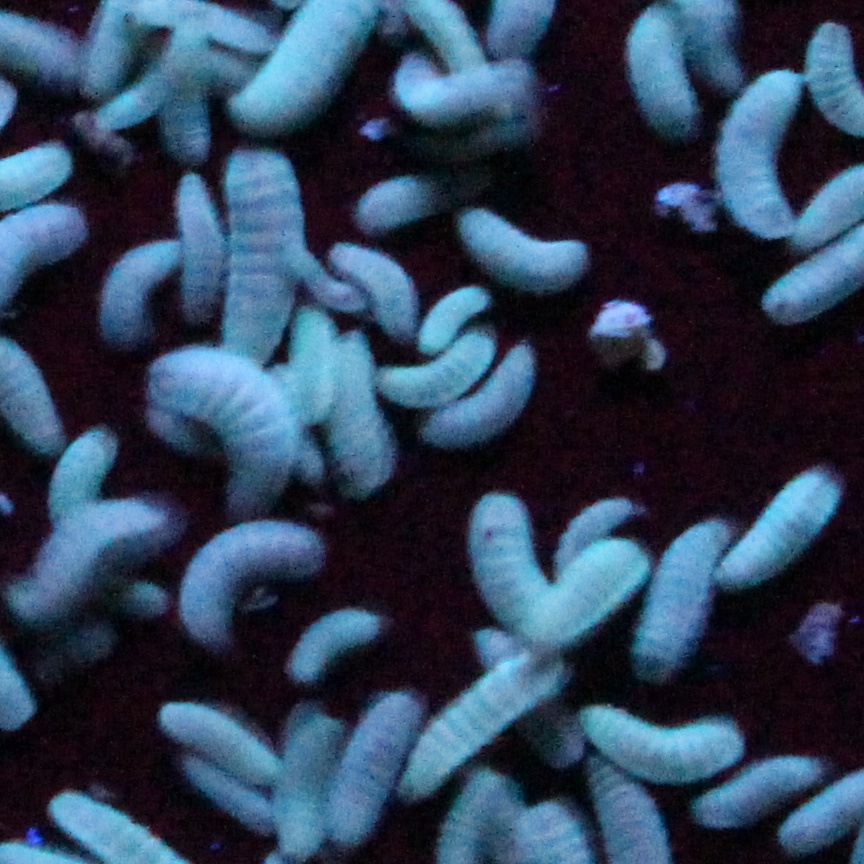larve: (180, 365, 294, 502), (416, 660, 542, 778), (23, 502, 147, 620), (192, 530, 311, 634), (330, 696, 417, 829), (639, 531, 722, 670), (229, 167, 290, 351), (474, 212, 596, 299), (542, 552, 647, 653), (739, 473, 827, 580), (394, 59, 545, 120), (729, 74, 786, 232), (96, 244, 180, 346), (476, 490, 535, 619), (276, 719, 327, 862), (449, 357, 535, 440), (162, 701, 257, 775), (706, 757, 812, 821), (178, 187, 225, 330), (599, 716, 740, 763), (343, 350, 386, 489), (286, 611, 376, 676), (642, 18, 695, 128), (58, 428, 117, 526), (360, 253, 421, 344), (390, 346, 503, 391), (188, 763, 265, 827), (565, 499, 637, 567), (364, 177, 480, 218), (150, 2, 262, 42), (178, 32, 209, 157), (294, 320, 325, 432), (107, 73, 162, 128), (300, 253, 354, 304), (427, 299, 472, 346)
